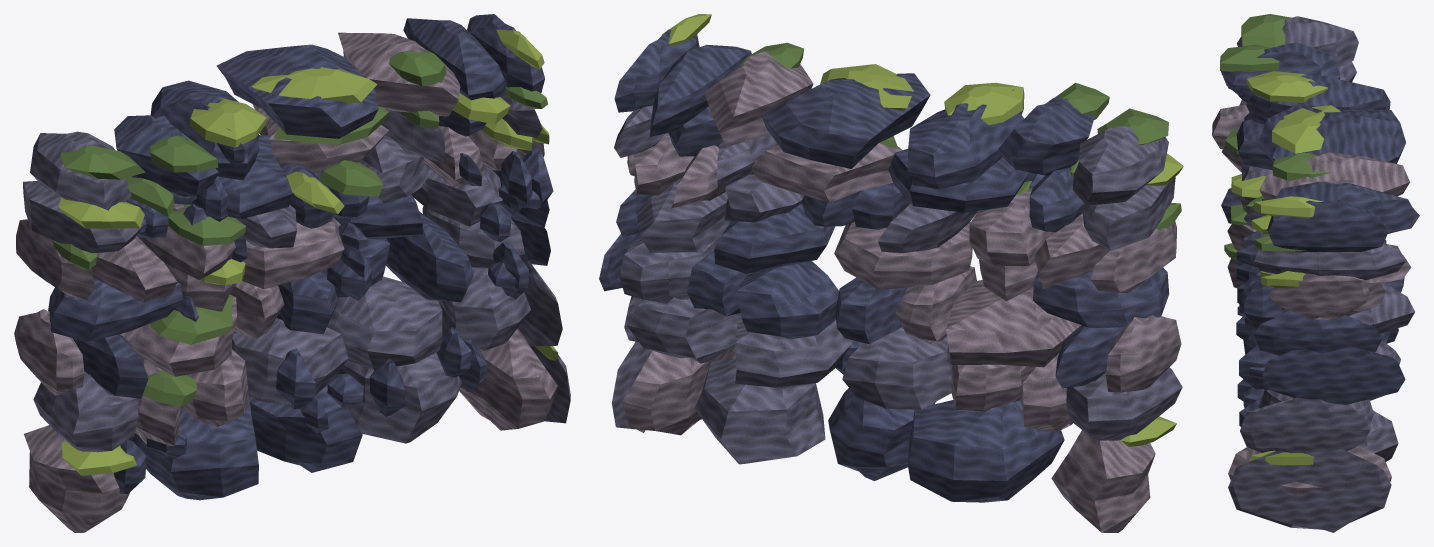
Rendered from slate-ledge-a.glb.
3 views of the same model, side by side, from view 1: azimuth 30°, elevation 25°; view 2: azimuth 150°, elevation 25°; view 3: azimuth 270°, elevation 25° (orthographic). The views are drawn at different scales.
Parts seen in each view (by area): view 1: slate-ledge-a · Slate · shadow, slate-ledge-a · Slate · lavender, slate-ledge-a · Slate · sunlit, slate-ledge-a · Moss · jade, slate-ledge-a · Moss · gold green; view 2: slate-ledge-a · Slate · shadow, slate-ledge-a · Slate · sunlit, slate-ledge-a · Slate · lavender, slate-ledge-a · Moss · gold green, slate-ledge-a · Moss · jade; view 3: slate-ledge-a · Slate · shadow, slate-ledge-a · Slate · lavender, slate-ledge-a · Slate · sunlit, slate-ledge-a · Moss · gold green, slate-ledge-a · Moss · jade.
Part boxes in pixels (x1,y1,x2,y2): slate-ledge-a · Slate · shadow: [48, 14, 553, 500]; slate-ledge-a · Slate · lavender: [23, 95, 570, 452]; slate-ledge-a · Slate · sunlit: [14, 32, 557, 532]; slate-ledge-a · Moss · jade: [53, 50, 547, 406]; slate-ledge-a · Moss · gold green: [58, 29, 557, 475]; slate-ledge-a · Slate · shadow: [599, 29, 1169, 502]; slate-ledge-a · Slate · sunlit: [622, 51, 1181, 532]; slate-ledge-a · Slate · lavender: [611, 105, 1182, 464]; slate-ledge-a · Moss · gold green: [661, 14, 1183, 446]; slate-ledge-a · Moss · jade: [739, 42, 1181, 230]; slate-ledge-a · Slate · shadow: [1221, 42, 1415, 426]; slate-ledge-a · Slate · lavender: [1228, 16, 1419, 532]; slate-ledge-a · Slate · sunlit: [1212, 99, 1411, 496]; slate-ledge-a · Moss · gold green: [1221, 71, 1340, 465]; slate-ledge-a · Moss · jade: [1220, 14, 1330, 259].
Size of the model in its own units: 10.84 by 8.32 by 4.68.
5 materials, 3 textured.
